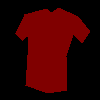abbigliamento_uomo: (15, 7, 90, 93)
